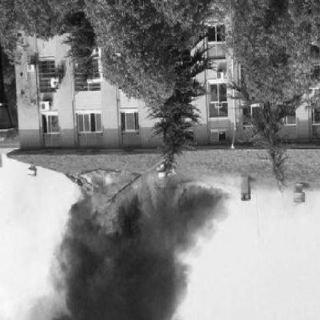Fire: (73, 163, 173, 247)
Smoke: (128, 193, 220, 320), (34, 232, 128, 319)
